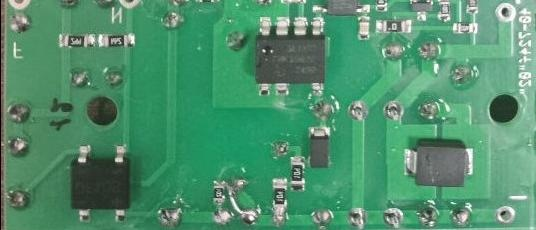chip-capacitor: (356, 14, 371, 40)
chip-resistor: (96, 31, 135, 48), (55, 31, 95, 47), (373, 17, 412, 33), (271, 176, 287, 207), (289, 154, 305, 184), (210, 179, 225, 204), (451, 20, 478, 33), (436, 0, 450, 22)
diode: (401, 143, 473, 187), (306, 125, 331, 169)
ic: (252, 14, 325, 96), (69, 142, 132, 222)
transistor: (408, 0, 434, 21)
